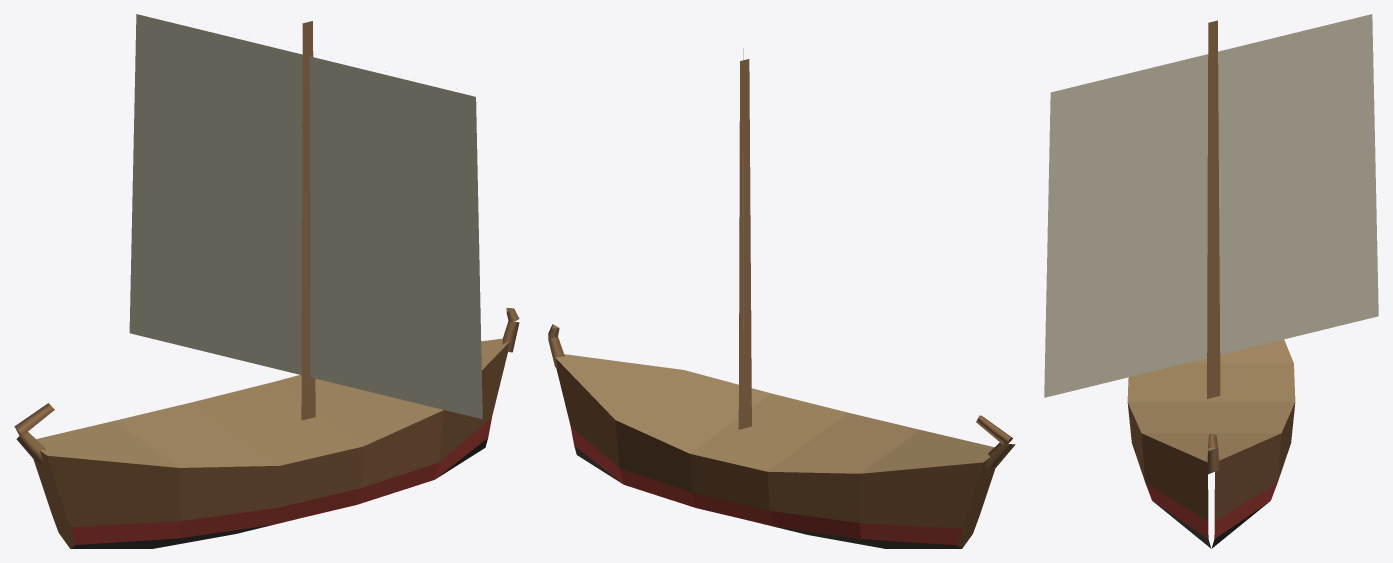
The model's file is hull_usd_coaster_boat_lod.glb.
3 renders of one model, left to right at view 1: azimuth 30°, elevation 25°; view 2: azimuth 150°, elevation 25°; view 3: azimuth 270°, elevation 25°, orthographic. The views are drawn at different scales.
Parts seen in each view (by area): view 1: lod; view 2: lod; view 3: lod.
Part boxes in pixels (bbox=[...]): lod: bbox=[14, 14, 519, 548]; lod: bbox=[548, 48, 1015, 548]; lod: bbox=[1044, 14, 1378, 548].
Size of the model in its own units: 8 by 7.54 by 4.86.
